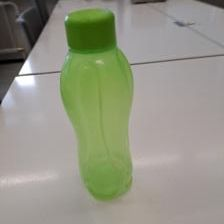bottle: (61, 7, 137, 198)
